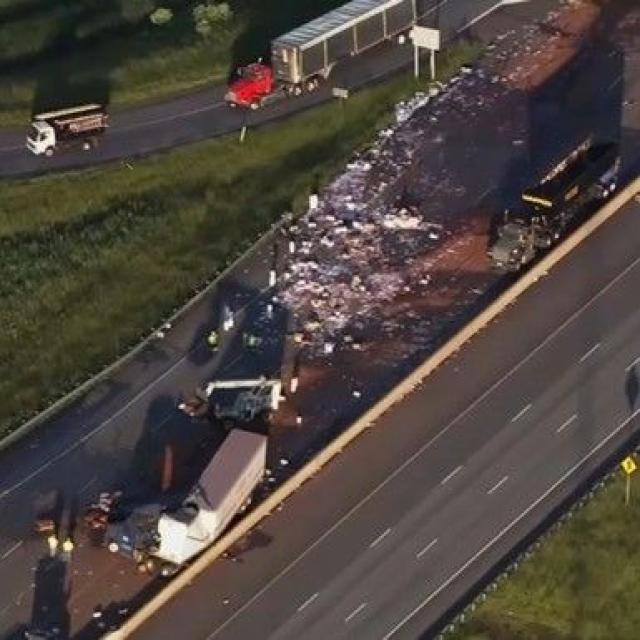traffic_incident: (105, 416, 269, 571), (469, 146, 615, 275)
